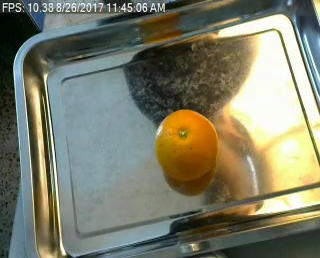Orange: (154, 109, 217, 181)
